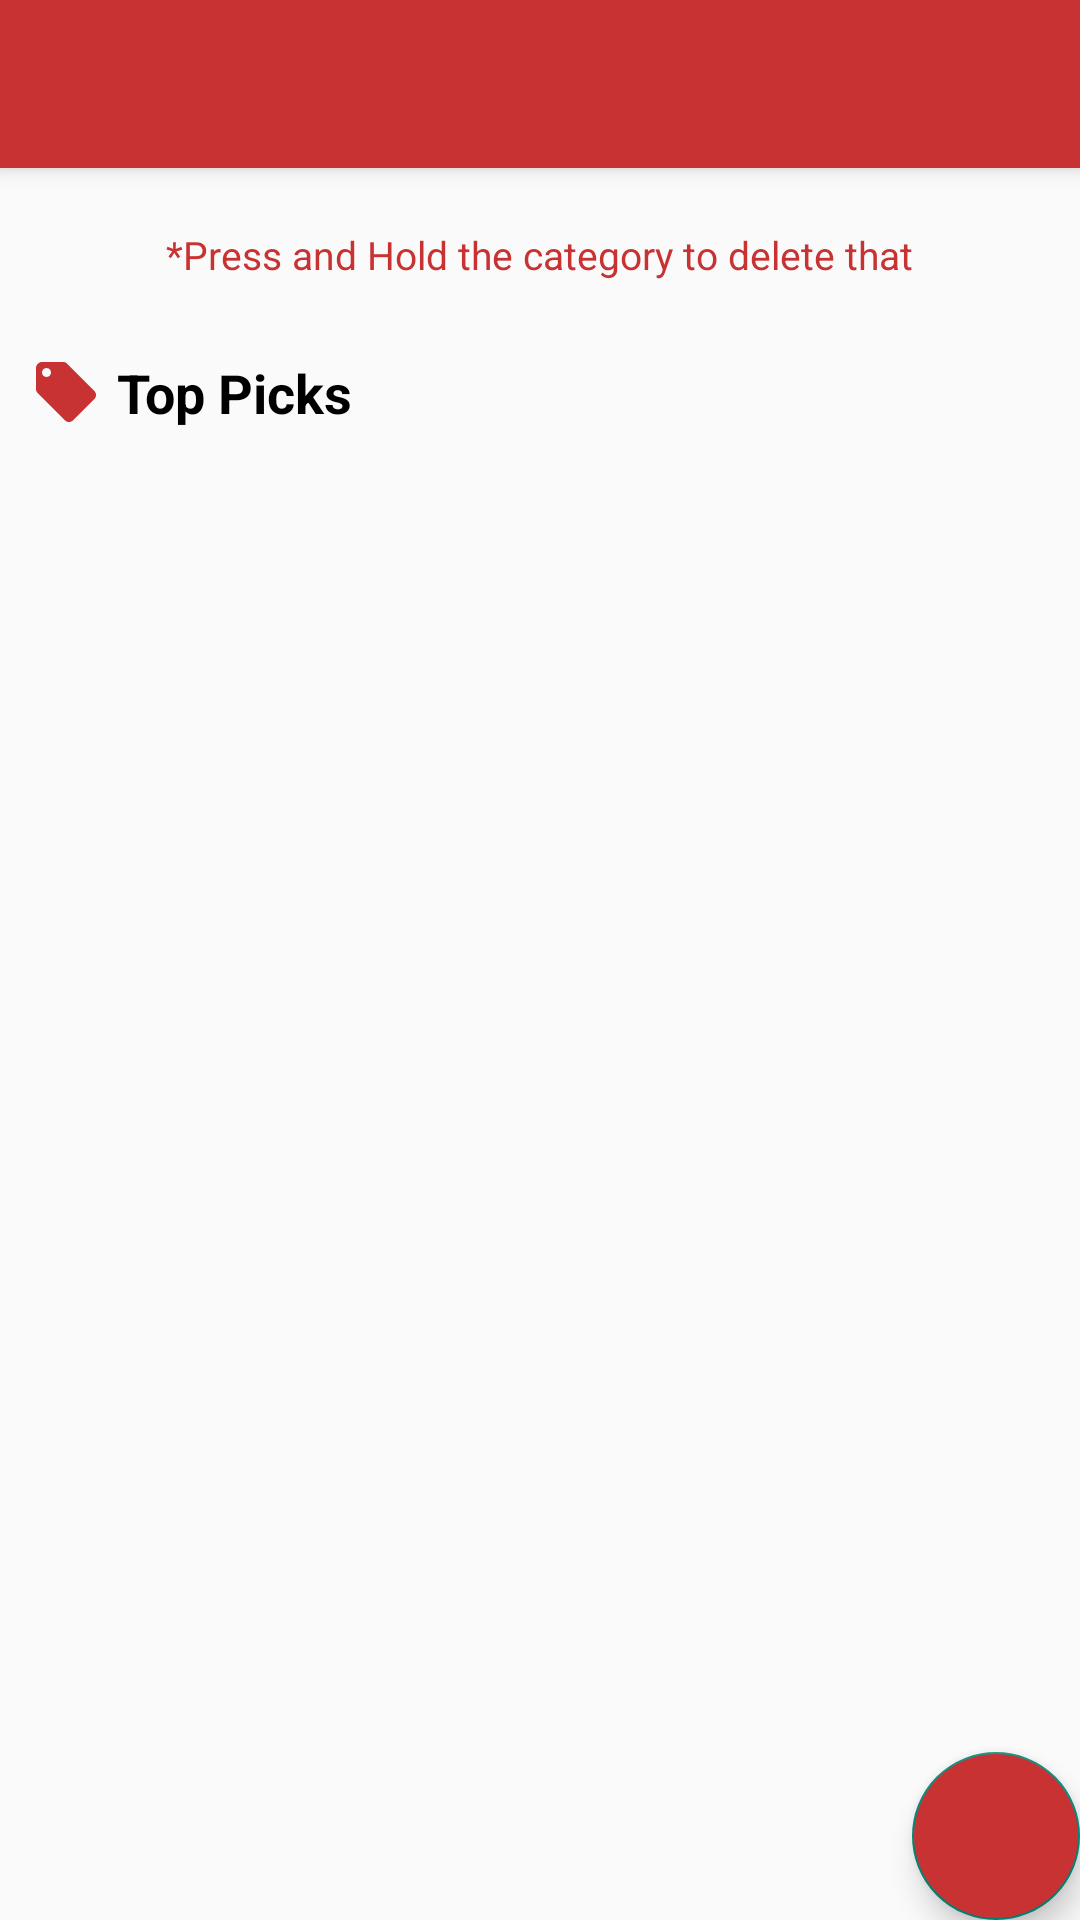

Screen size 1080*1920. Icon name, then its box in pixels as (x1, y1, x2, y2):
local offer: (36, 362, 96, 422)
